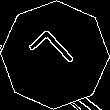L_SE: (26, 26, 84, 84)
